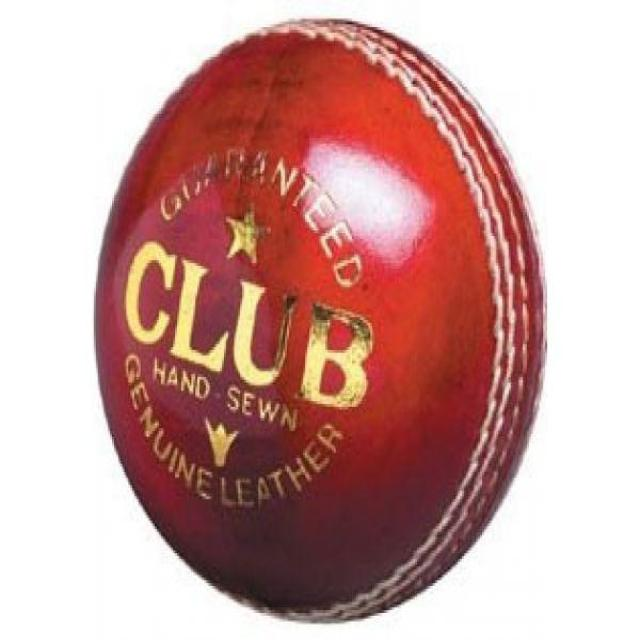ball: (95, 20, 546, 621)
